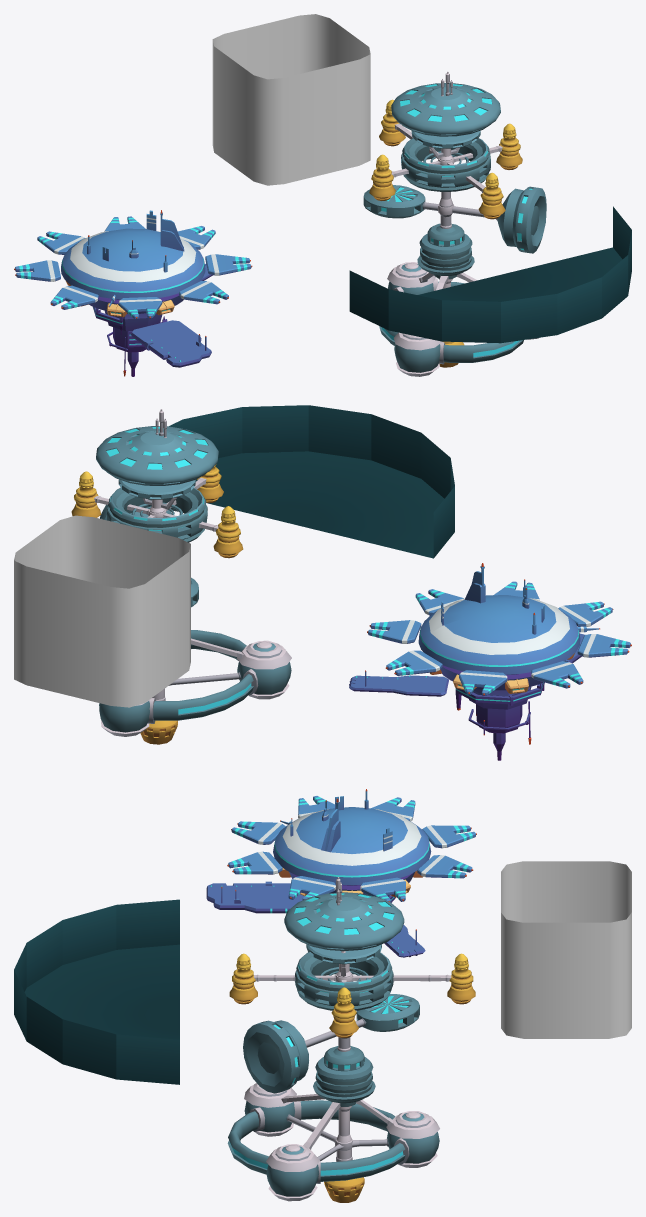
File: assets_t3_a5.fbx
The picture shows the model from 3 angles, top to bottom: view 1: azimuth 30°, elevation 25°; view 2: azimuth 150°, elevation 25°; view 3: azimuth 270°, elevation 25°; orthographic projection. The views are drawn at different scales.
Visible parts, largest first — view 1: assets_t3_era5_1, godray_t3_era5, assets_t3_era5_2, ground_t3_era5, assets_t3_era5_12, assets_t3_era5_22; view 2: godray_t3_era5, ground_t3_era5, assets_t3_era5_2, assets_t3_era5_1, assets_t3_era5_22, assets_t3_era5_12; view 3: assets_t3_era5_1, ground_t3_era5, godray_t3_era5, assets_t3_era5_2, assets_t3_era5_12, assets_t3_era5_22.
Boxes of the visible parts, bbox=[...] form: assets_t3_era5_1: bbox=[363, 71, 546, 376]; godray_t3_era5: bbox=[212, 14, 370, 185]; assets_t3_era5_2: bbox=[15, 210, 251, 376]; ground_t3_era5: bbox=[349, 206, 631, 343]; assets_t3_era5_12: bbox=[381, 84, 532, 357]; assets_t3_era5_22: bbox=[14, 210, 252, 376]; godray_t3_era5: bbox=[14, 515, 190, 707]; ground_t3_era5: bbox=[169, 405, 454, 558]; assets_t3_era5_2: bbox=[349, 566, 630, 760]; assets_t3_era5_1: bbox=[71, 409, 291, 744]; assets_t3_era5_22: bbox=[356, 563, 631, 744]; assets_t3_era5_12: bbox=[106, 427, 251, 714]; assets_t3_era5_1: bbox=[227, 877, 475, 1202]; ground_t3_era5: bbox=[14, 899, 179, 1084]; godray_t3_era5: bbox=[501, 861, 631, 1038]; assets_t3_era5_2: bbox=[206, 791, 475, 957]; assets_t3_era5_12: bbox=[230, 893, 408, 1175]; assets_t3_era5_22: bbox=[210, 789, 476, 952].
Bounding box in the file's own units: 307 × 172 × 301.
